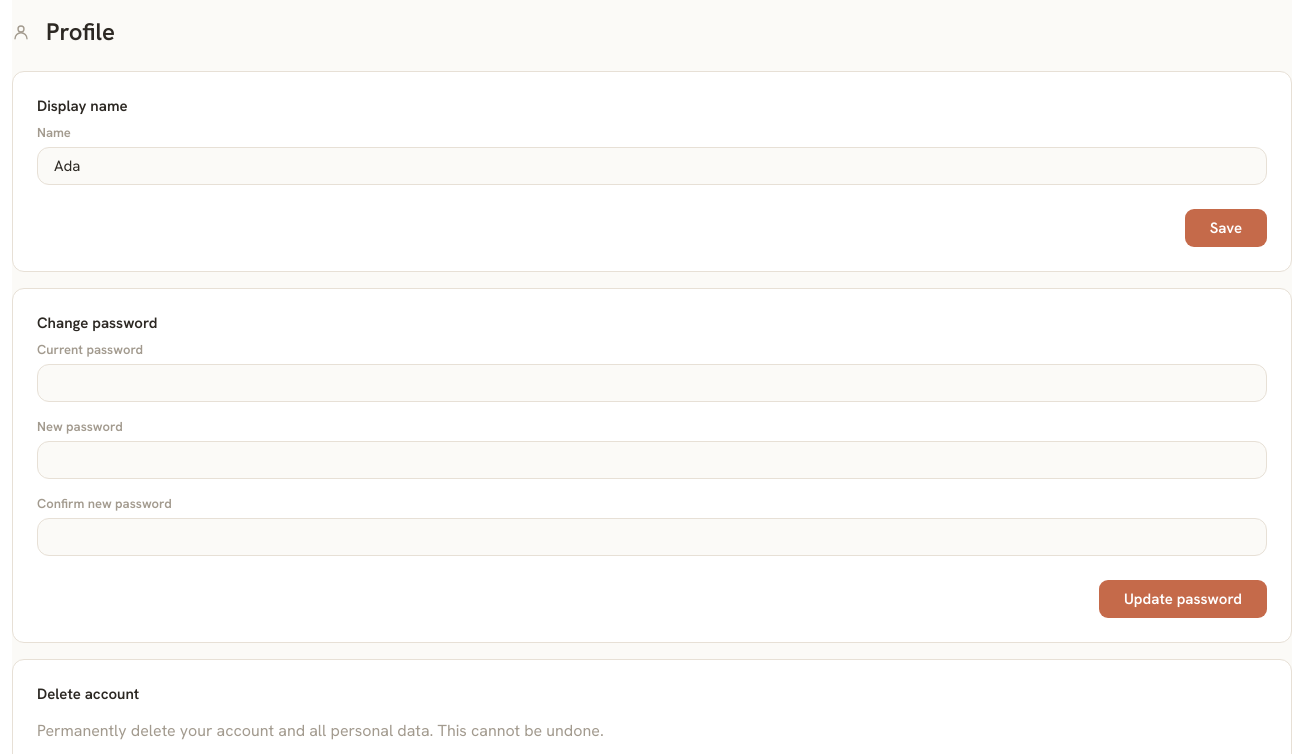
Test: ProfilePage › requires all password fields
Click the button "Update password": {"x": 1183, "y": 599} [1099,580,1267,618]
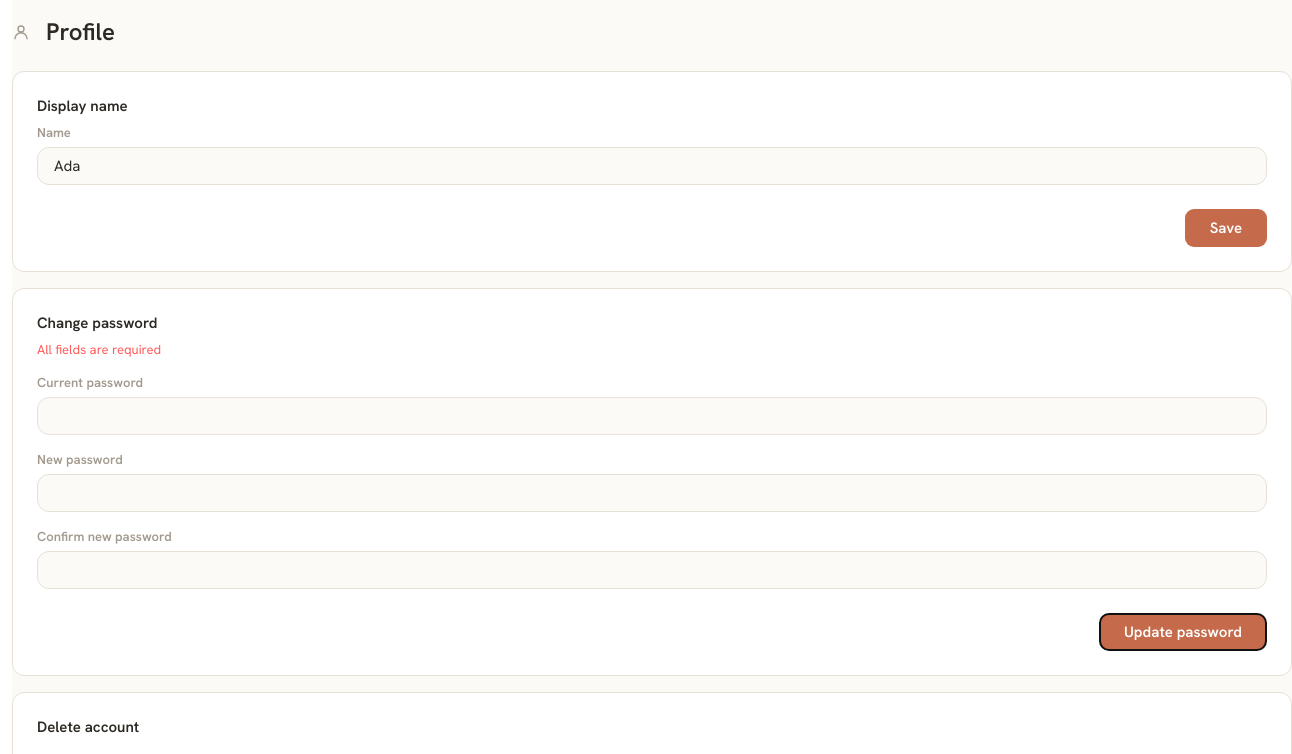
Result: the text "All fields are required" is shown at [37,341,161,358]
